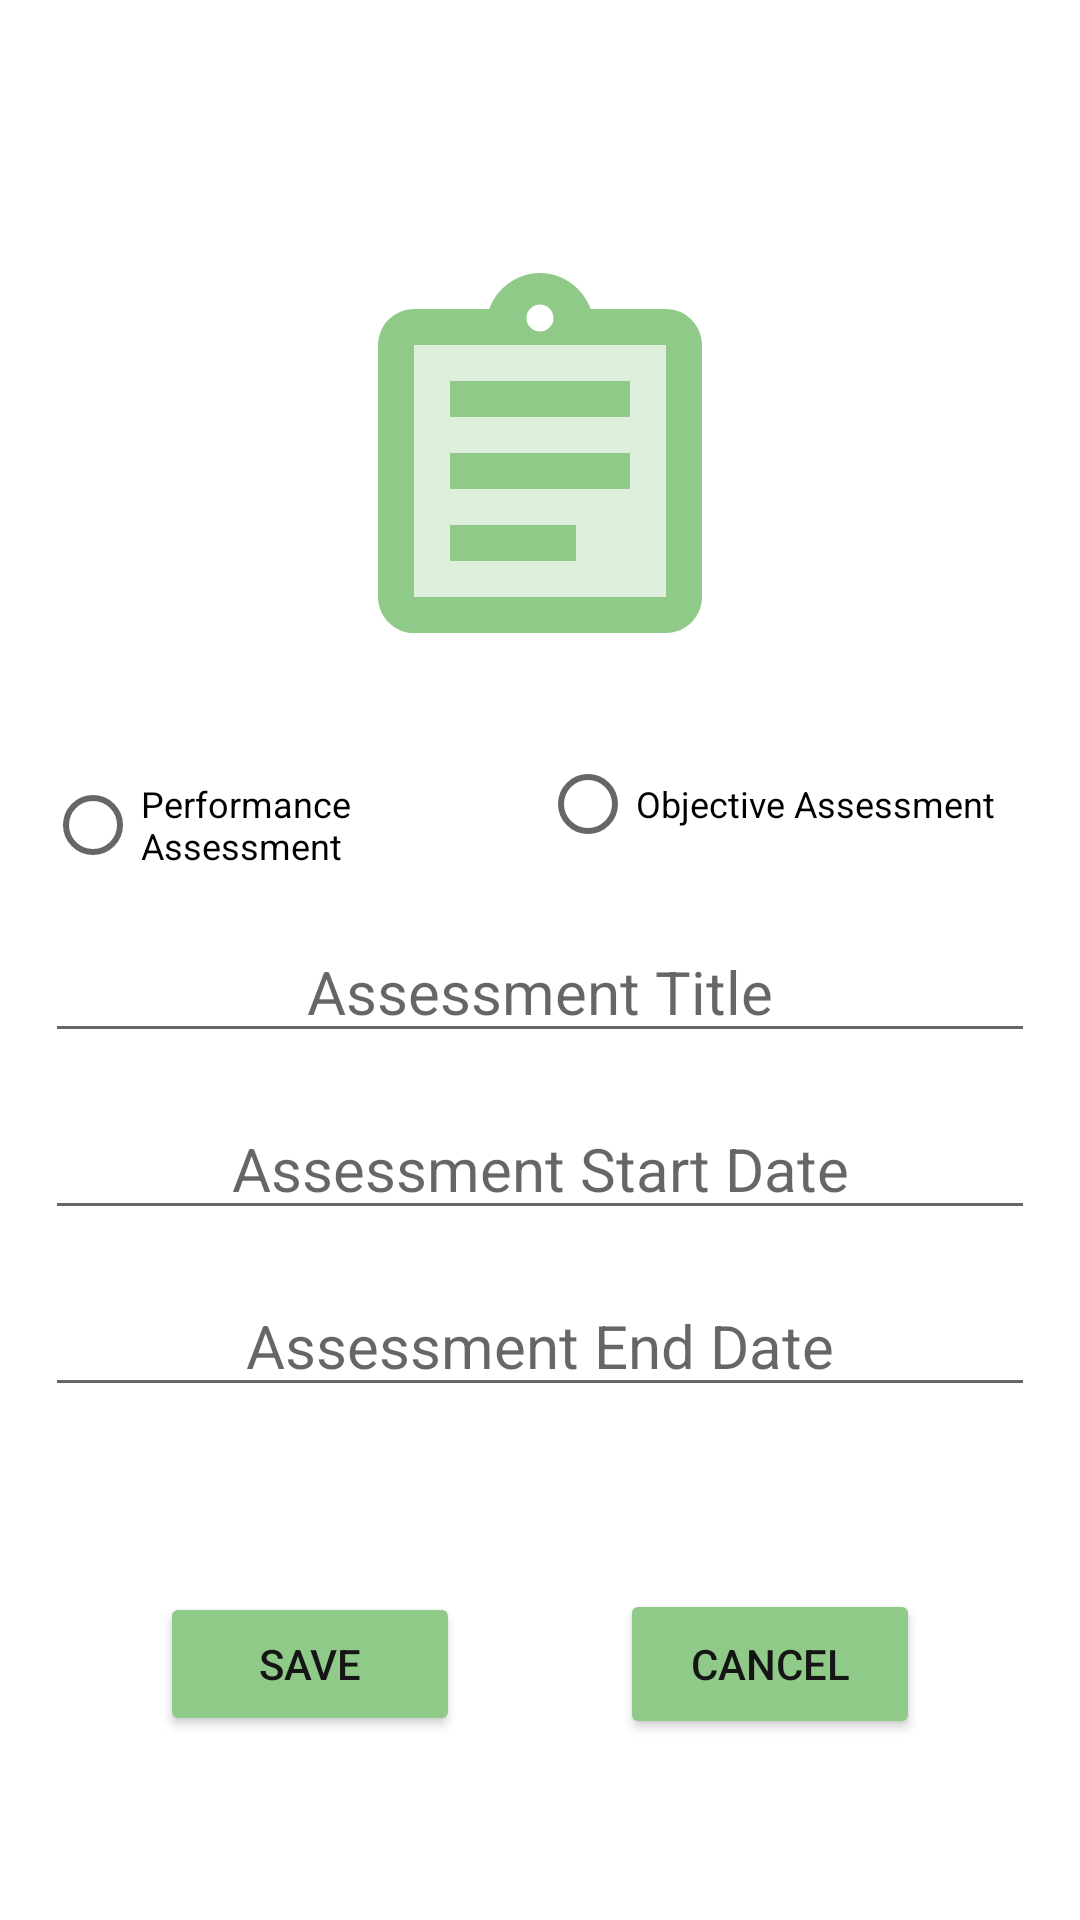

Named icons in this screenshot (1080px x 1920px) and their centers, [x,y]:
assignment: [540,453]
